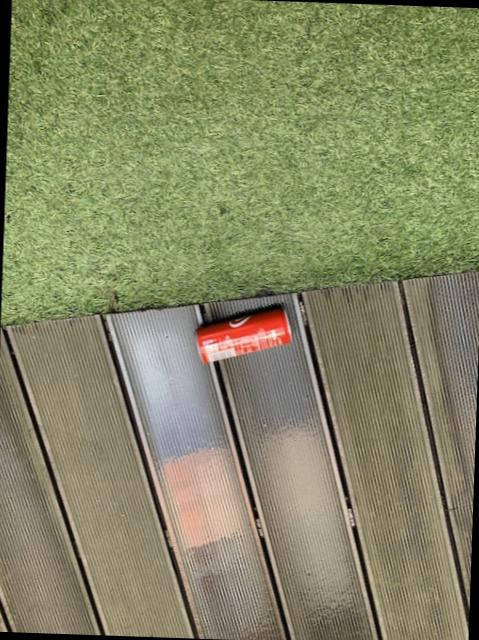metal: (195, 308, 290, 363)
